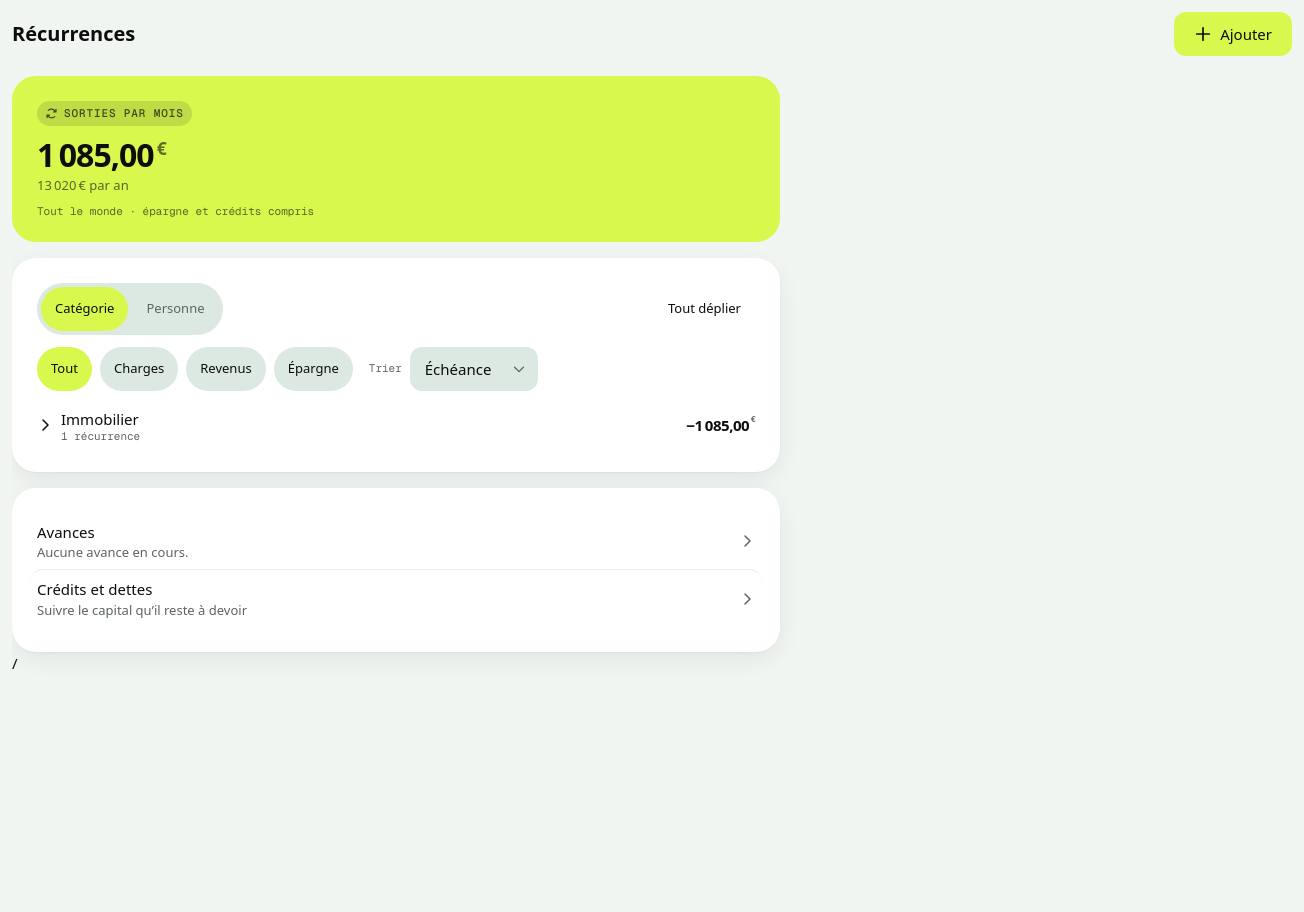
RecurrencesPage › les filtres › offrent une sortie quand ils ne laissent rien
Click the button "Revenus": (226, 369) [186, 347, 266, 391]
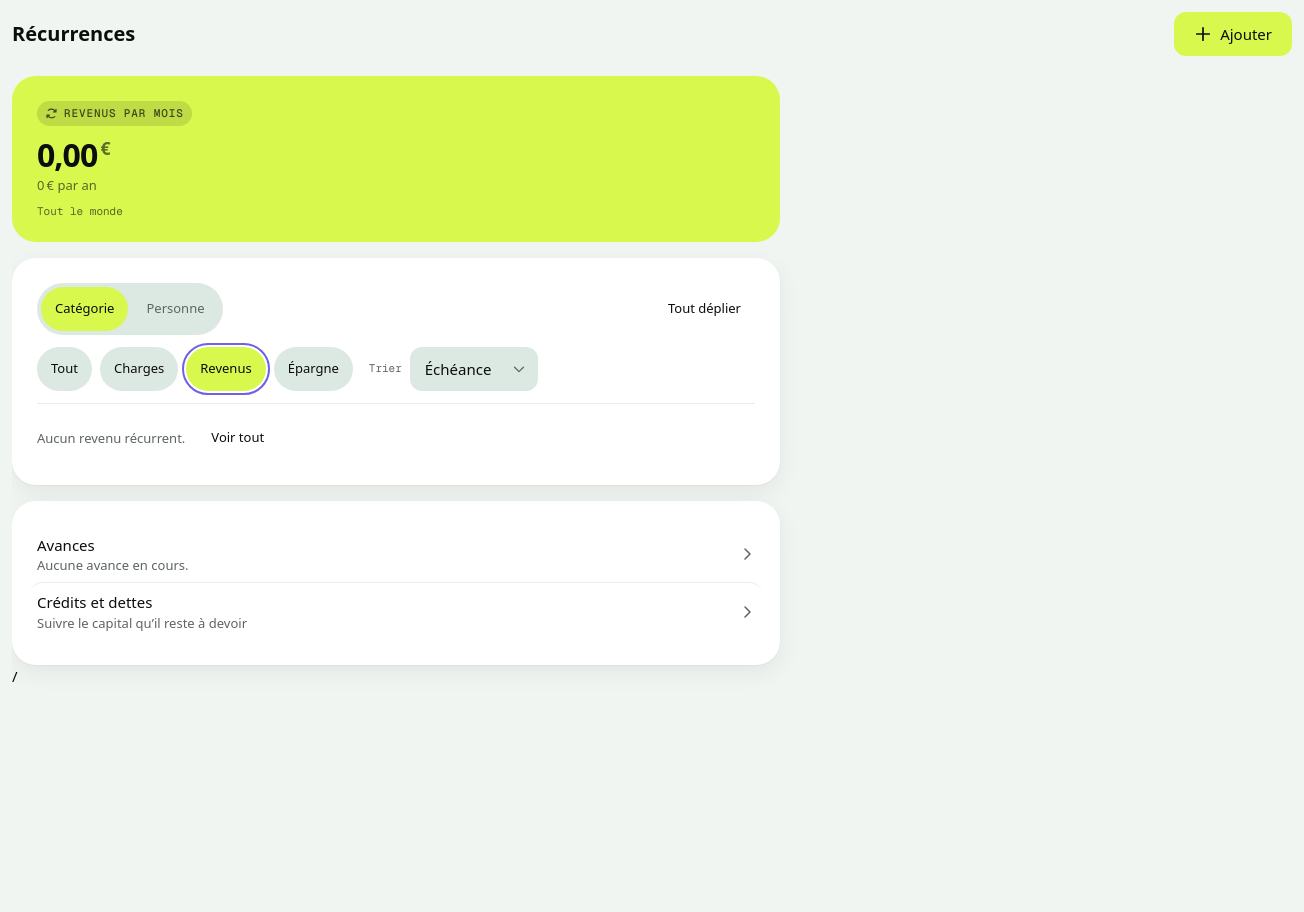
Expected: the text "Aucun revenu récurrent." is shown, [37, 429, 185, 447]
Click the button "Voir tout": (238, 438) [197, 416, 278, 460]
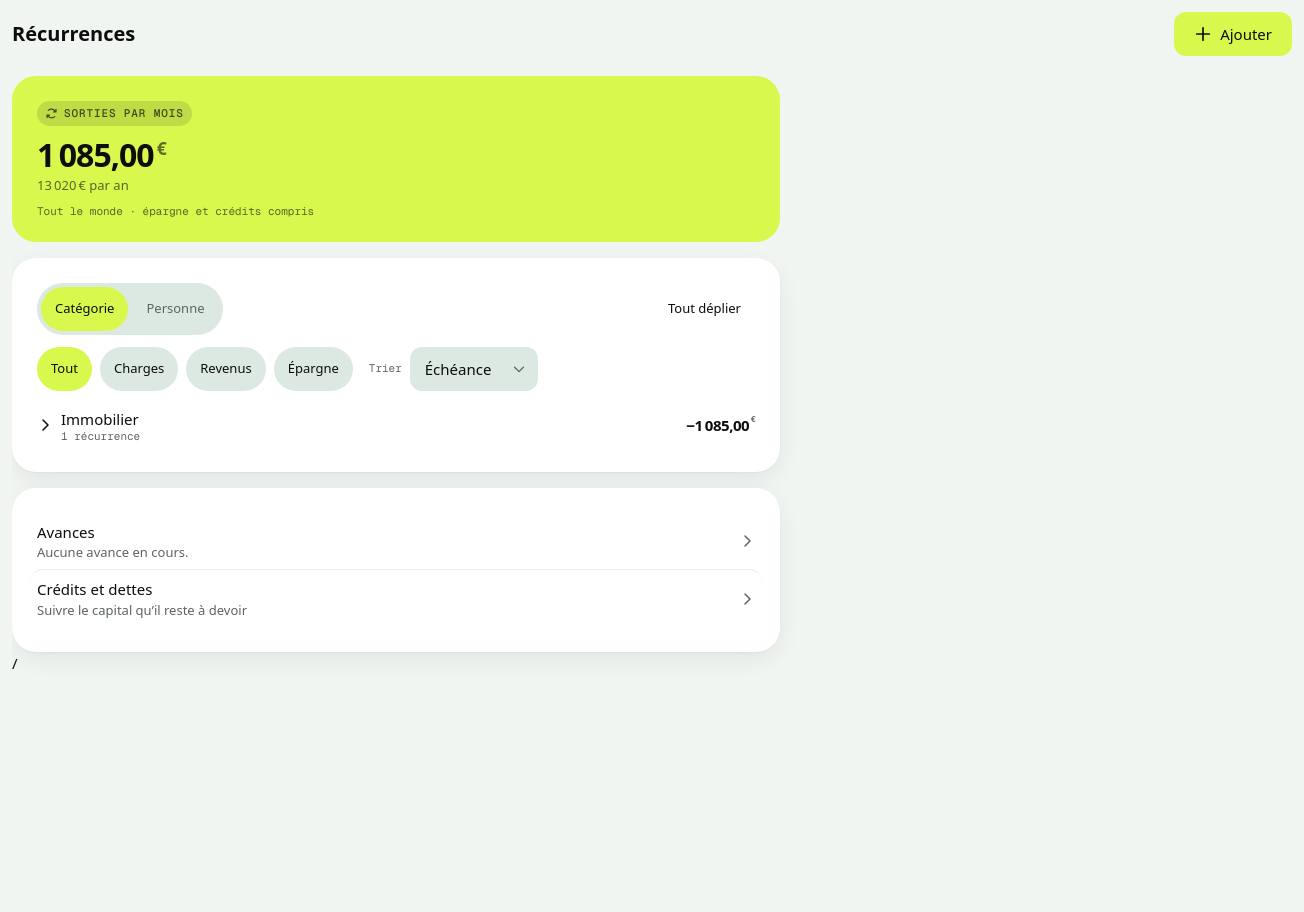
Expected: the text "Aucun revenu récurrent." is gone
Expected: the heading "Immobilier 1 récurrence −1 085,00 €" is shown, [25, 403, 767, 447]
